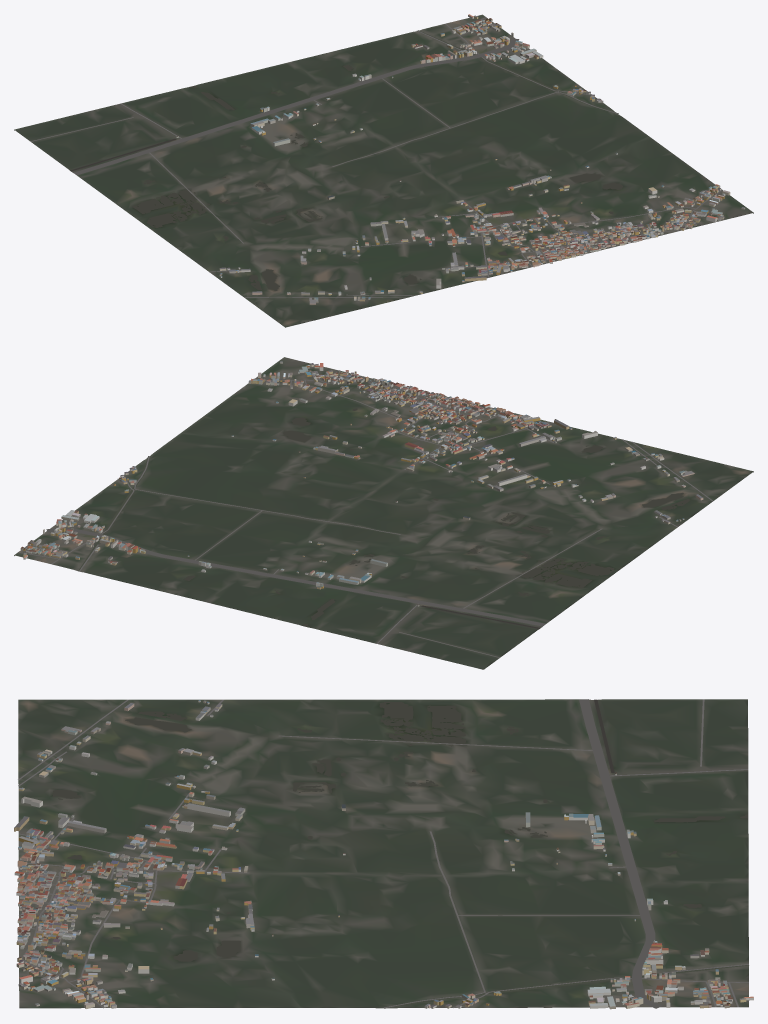
The picture shows the model from 3 angles, top to bottom: view 1: azimuth 30°, elevation 25°; view 2: azimuth 150°, elevation 25°; view 3: azimuth 270°, elevation 25°; orthographic projection. The views are drawn at different scales.
Visible parts, largest first — view 1: ground, buildings, roads, water; view 2: ground, buildings, roads, water; view 3: ground, buildings, roads, water.
Boxes of the visible parts, left/top/right/bottom form: ground: left=14, top=14, right=753, bottom=327; buildings: left=176, top=14, right=745, bottom=304; roads: left=30, top=17, right=722, bottom=297; water: left=70, top=30, right=623, bottom=290; ground: left=14, top=357, right=753, bottom=669; buildings: left=20, top=361, right=703, bottom=606; roads: left=18, top=375, right=713, bottom=657; water: left=78, top=408, right=689, bottom=628; ground: left=18, top=699, right=748, bottom=1008; buildings: left=14, top=700, right=753, bottom=1009; roads: left=18, top=699, right=748, bottom=1008; water: left=52, top=699, right=748, bottom=1008.
Size of the model in its own units: 1410 by 17.1 by 1421.
